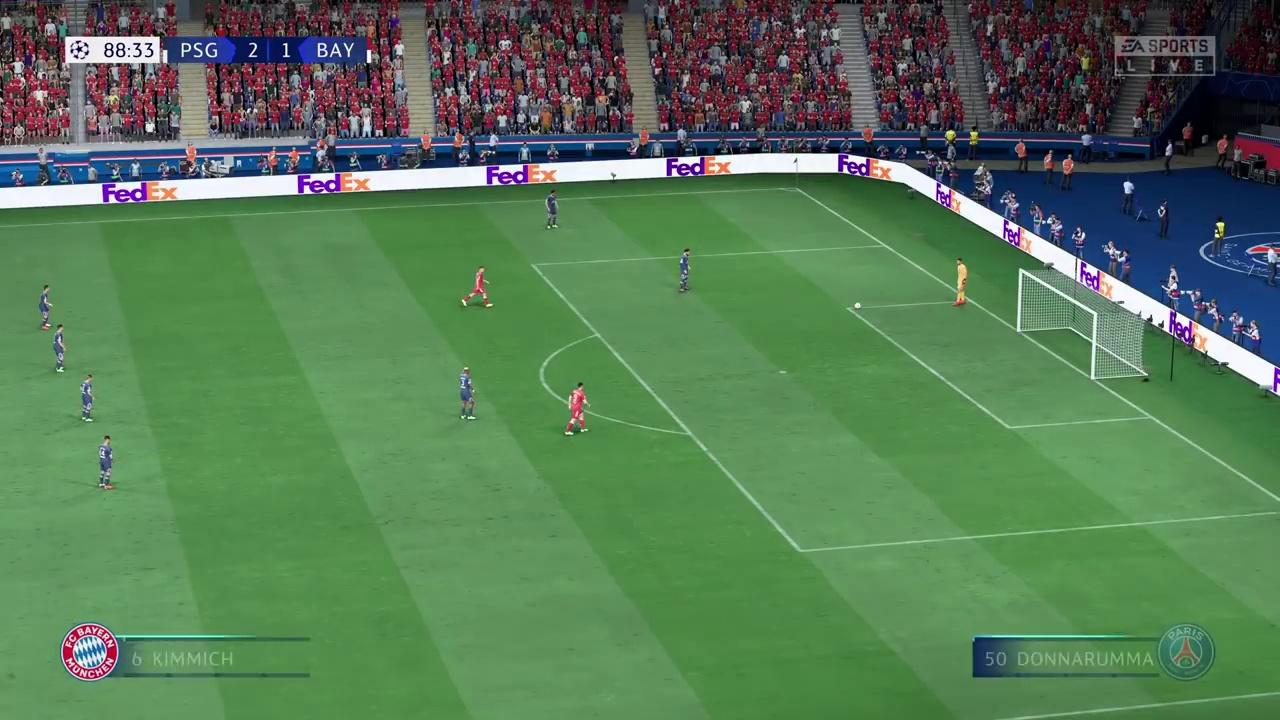scoreboard: (167, 36, 367, 64)
timestamp: (64, 36, 158, 63)
